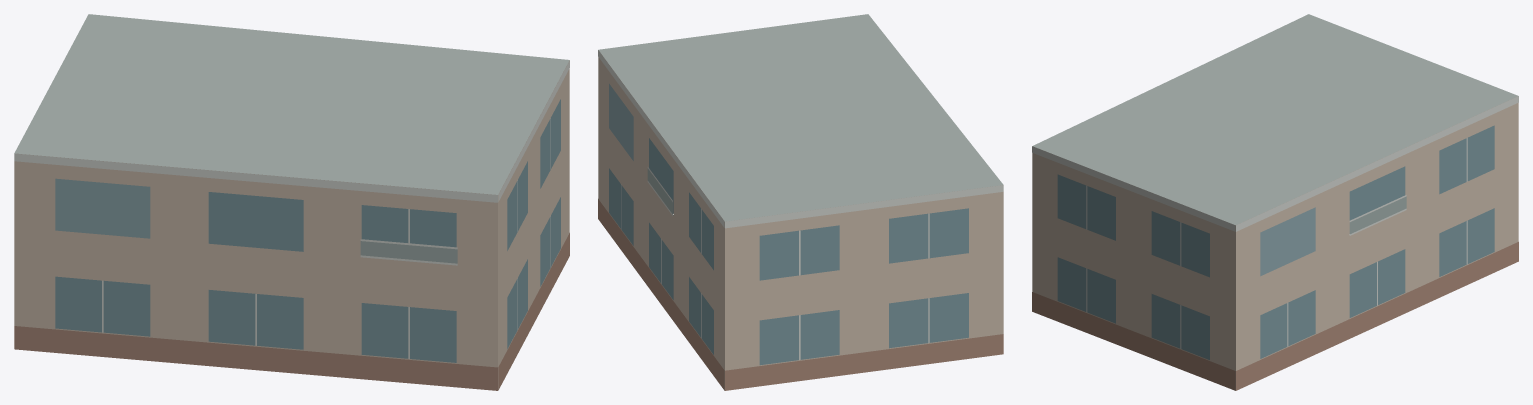
File: survey-upis-32883416.glb
3 views of the same model, side by side, from view 1: azimuth 30°, elevation 25°; view 2: azimuth 150°, elevation 25°; view 3: azimuth 270°, elevation 25° (orthographic). The views are drawn at different scales.
Parts seen in each view (by area): view 1: survey-upis-32883416.tmp; view 2: survey-upis-32883416.tmp; view 3: survey-upis-32883416.tmp.
Boxes of the visible parts, bbox=[...] form: survey-upis-32883416.tmp: bbox=[14, 14, 569, 390]; survey-upis-32883416.tmp: bbox=[598, 14, 1003, 390]; survey-upis-32883416.tmp: bbox=[1032, 14, 1518, 390].
Bounding box in the file's own units: 16.71 × 6.1 × 16.25.
